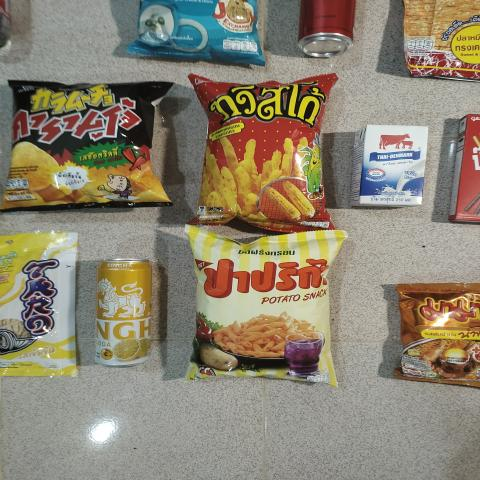karamujo: (13, 86, 176, 205)
mama: (380, 280, 480, 394)
paprika: (192, 236, 330, 379)
singha_yellow: (94, 255, 159, 367)
thai_denmark: (350, 128, 430, 211)
twisco: (209, 81, 330, 227)
